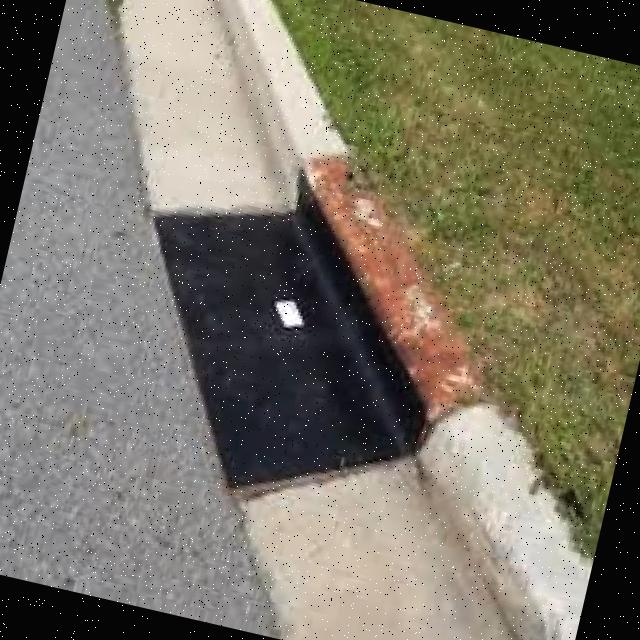curb: (120, 1, 592, 640)
